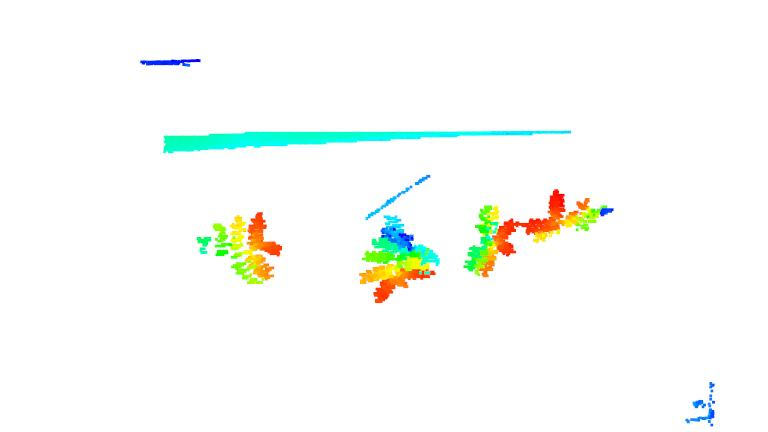chickpea: (363, 215, 445, 304), (193, 210, 286, 287), (522, 186, 616, 246), (463, 203, 524, 276)
